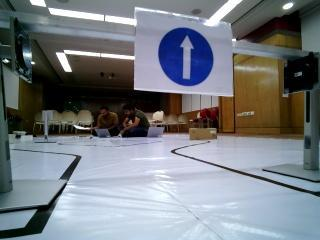straight: (135, 11, 233, 94)
